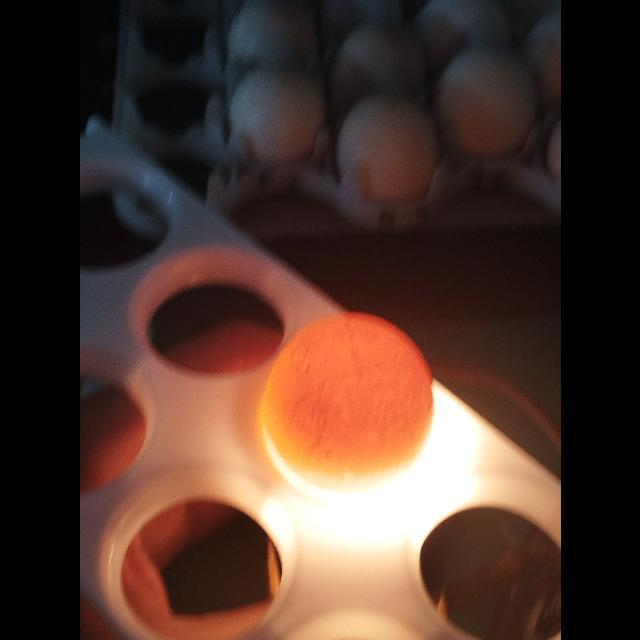Infertile: (256, 309, 436, 506)
